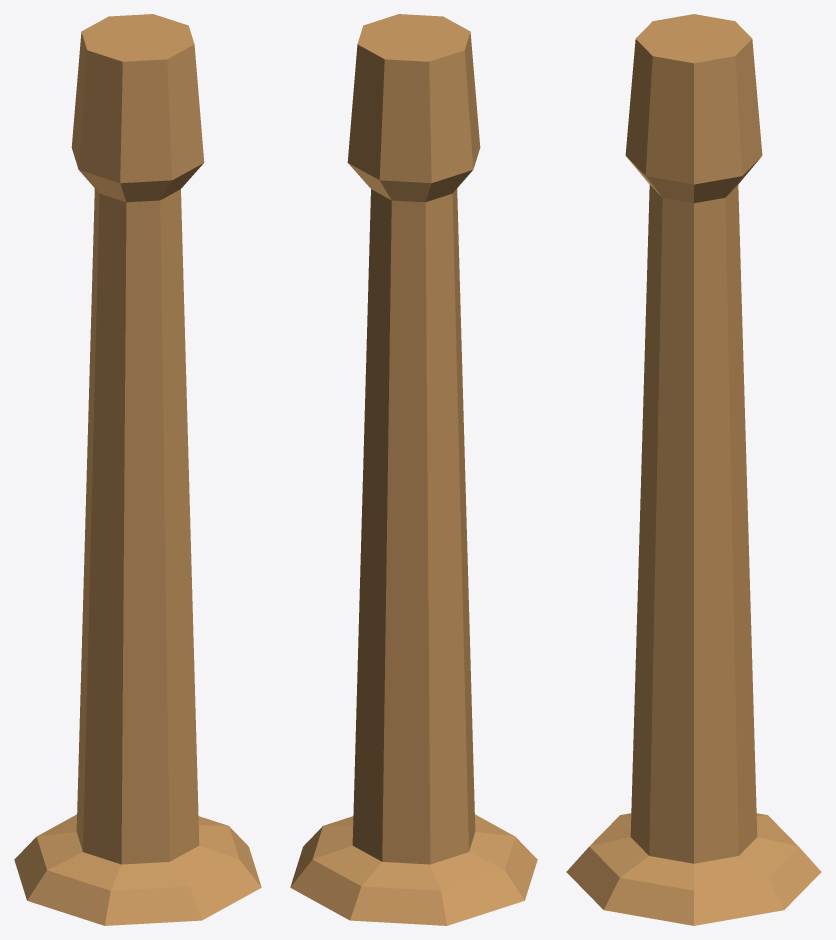
The model's file is egypt_egypt-pillar-lotus-cluster.fbx.
3 renders of one model, left to right at view 1: azimuth 30°, elevation 25°; view 2: azimuth 150°, elevation 25°; view 3: azimuth 270°, elevation 25°, orthographic.
Visible parts, largest first — view 1: egypt_egypt_pillar_lotus_cluster; view 2: egypt_egypt_pillar_lotus_cluster; view 3: egypt_egypt_pillar_lotus_cluster.
Boxes of the visible parts, box(x1,y1,x2,y2) form: egypt_egypt_pillar_lotus_cluster: box(14, 14, 261, 925); egypt_egypt_pillar_lotus_cluster: box(290, 14, 537, 925); egypt_egypt_pillar_lotus_cluster: box(566, 14, 821, 925).
Size of the model in its own units: 55.56 by 200 by 55.56.
